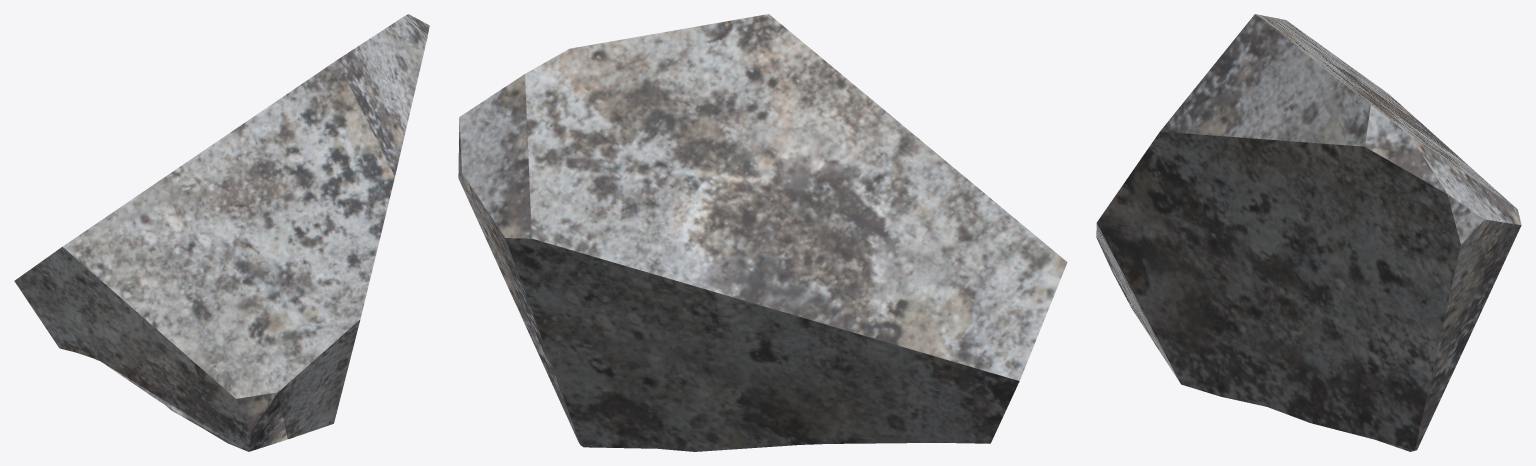
Rendered from Asteroid_Large_001_02_008_03_003.fbx.
The picture shows the model from 3 angles, left to right: view 1: azimuth 30°, elevation 25°; view 2: azimuth 150°, elevation 25°; view 3: azimuth 270°, elevation 25°; orthographic projection. The views are drawn at different scales.
Visible parts, largest first — view 1: Asteroid_Large_001_02_008_03_003; view 2: Asteroid_Large_001_02_008_03_003; view 3: Asteroid_Large_001_02_008_03_003.
Part boxes in pixels (box(x1,y1,x2,y2)): Asteroid_Large_001_02_008_03_003: box(14, 14, 429, 451); Asteroid_Large_001_02_008_03_003: box(458, 14, 1067, 451); Asteroid_Large_001_02_008_03_003: box(1096, 14, 1521, 451).
Size of the model in its own units: 12.98 by 9.37 by 9.24.
